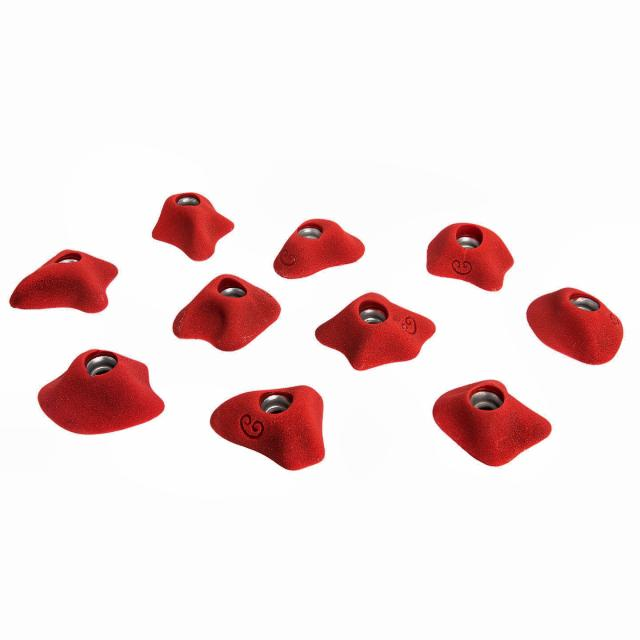Hold: (34, 348, 164, 434), (428, 380, 554, 466), (314, 288, 437, 371), (209, 384, 327, 470), (170, 273, 280, 350), (522, 284, 622, 366), (8, 244, 118, 314), (426, 222, 514, 292), (152, 190, 236, 263), (272, 214, 364, 278)
